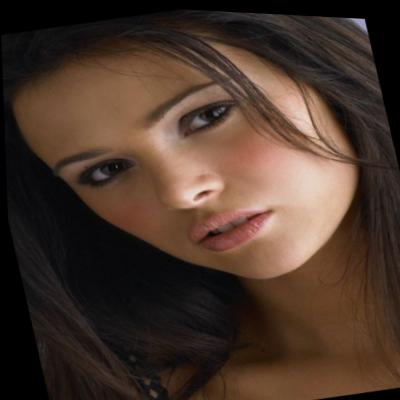netural: (4, 0, 380, 320)
